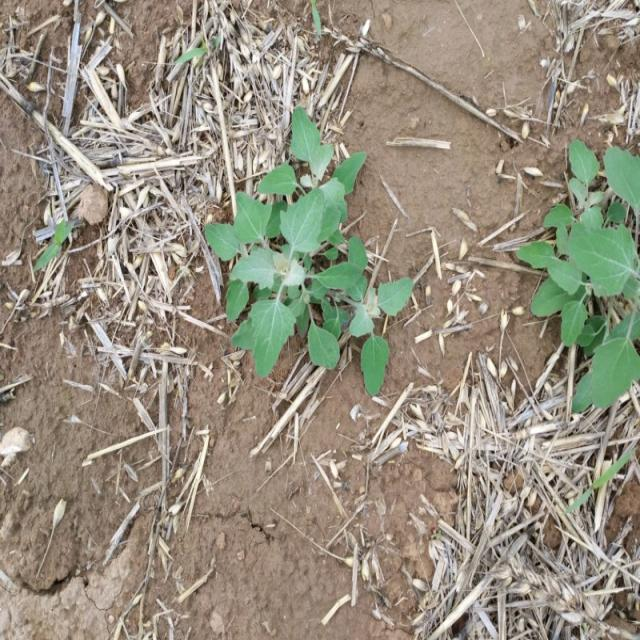goosefoots: (215, 130, 421, 413)
